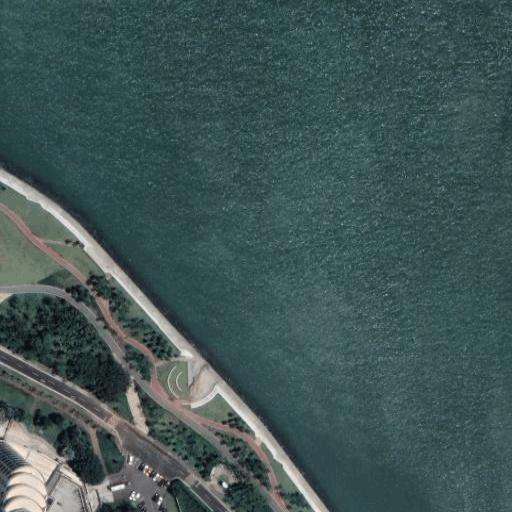building: (42, 464, 90, 512)
